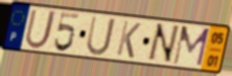5: (53, 10, 81, 54)
K: (114, 19, 143, 60)
M: (171, 25, 212, 69)
N: (145, 23, 182, 65)
U: (23, 8, 58, 51), (84, 15, 117, 58)
